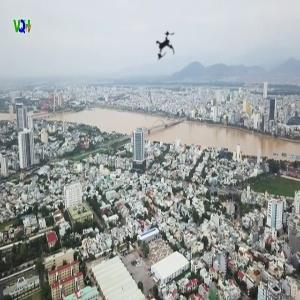drone: (138, 18, 194, 74)
